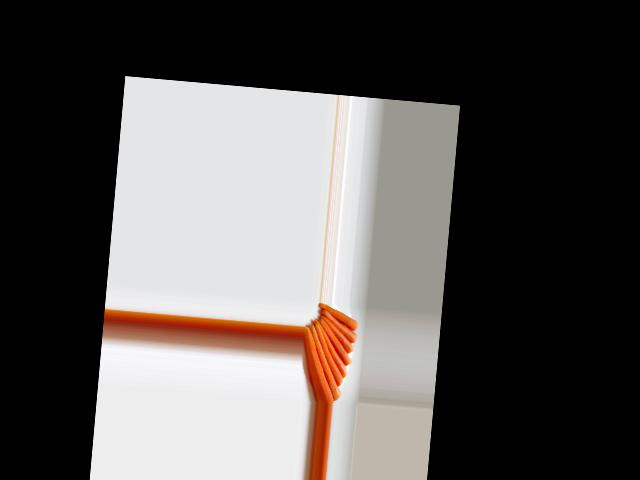carrot: (299, 327, 338, 404)
